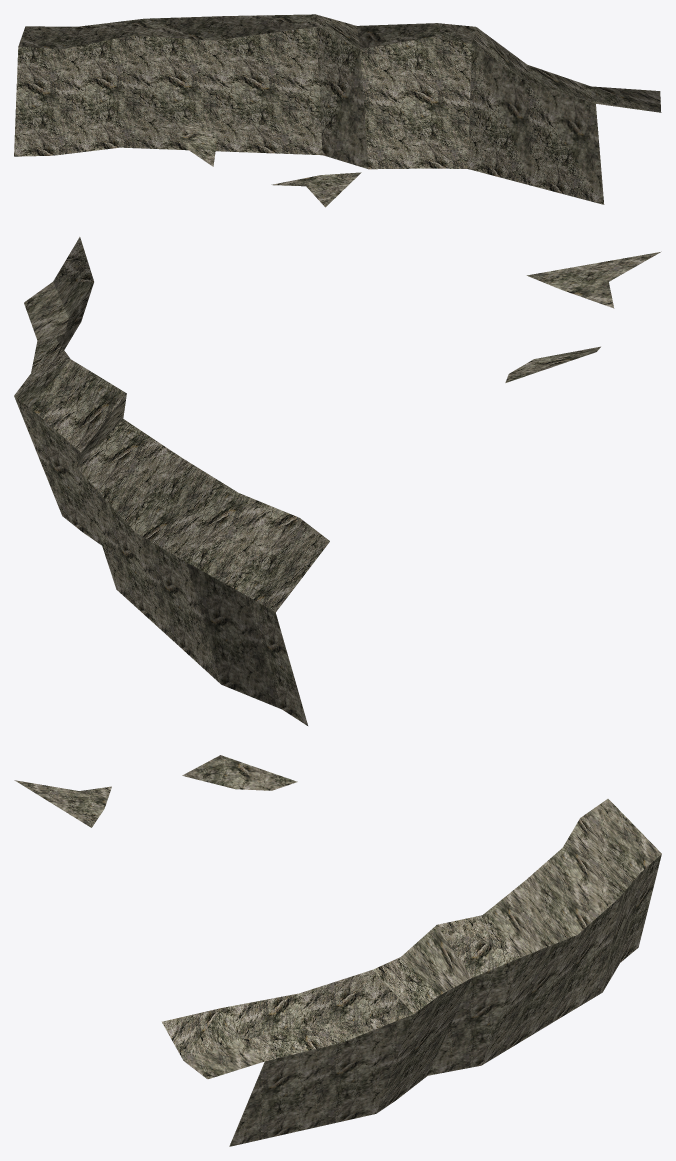
Rendered from cegroundtp104a.obj.
3 views of the same model, one above another, from view 1: azimuth 30°, elevation 25°; view 2: azimuth 150°, elevation 25°; view 3: azimuth 270°, elevation 25° (orthographic). The views are drawn at different scales.
Parts seen in each view (by area): view 1: CEgroundTP104A; view 2: CEgroundTP104A; view 3: CEgroundTP104A.
Part boxes in pixels (x1,y1,x2,y2): CEgroundTP104A: [14, 14, 661, 207]; CEgroundTP104A: [14, 237, 661, 725]; CEgroundTP104A: [14, 755, 661, 1146].
Size of the model in its own units: 169 by 57.09 by 192.
Materials: 1 (1 with a texture image).
